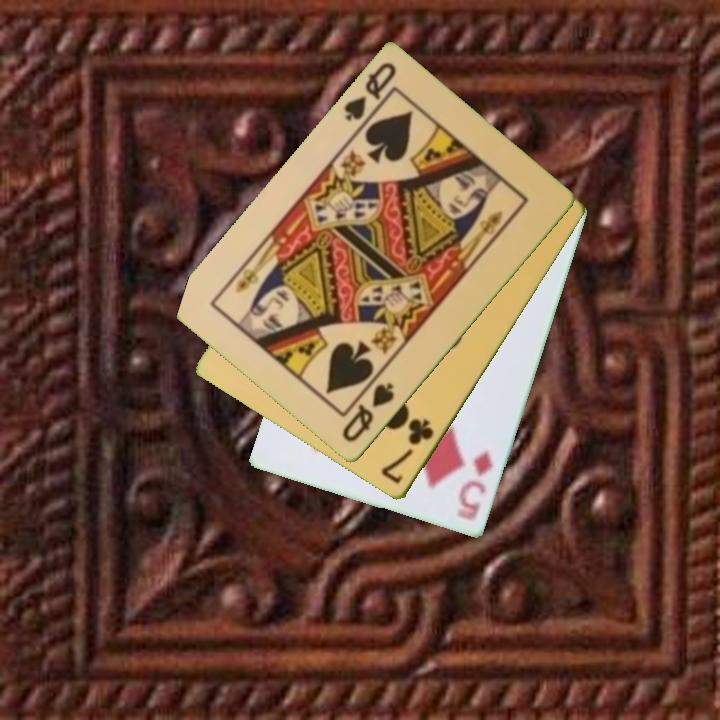5d: (453, 447, 497, 524)
7c: (377, 415, 437, 488)
Qs: (338, 379, 398, 446), (340, 59, 399, 125)
